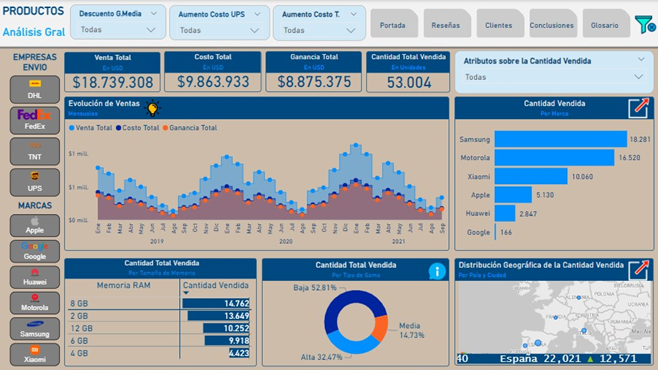

The dashboard page shown, as its layout file describes it:
{"tool":"powerbi","page":{"name":"Productos","canvas":[1280,720],"ordinal":2},"visuals":[{"type":"card","title":"Cantidad  Total Vendida","fields":{"Values":["DAX Medidas.Cantidad Total Vendida"]},"box":[710.8,99.2,163,80.1],"z":0},{"type":"areaChart","title":"Evolución de Ventas","fields":{"Category":["Calendario.Año","Calendario.Mes Nombre"],"Y":["DAX Medidas.Venta Total Desglosada por Gama","DAX Medidas.Costo Total Desglosado por Empresa Envio","DAX Medidas.Ganancia Total"]},"box":[124.4,187.4,748,298.9],"z":1000},{"type":"pageNavigator","box":[720,17,508.8,56.7],"z":2000},{"type":"card","title":"Ganancia Total","fields":{"Values":["DAX Medidas.Ganancia Total"]},"box":[515.8,98.9,187.4,78.7],"z":3000},{"type":"ChicletSlicer1448559807354","title":"MARCAS","fields":{"Category":["Marca.Marca Articulo"],"Image":["Marca.Logo"]},"box":[11.8,388.2,113.2,332.4],"z":4000},{"type":"ChicletSlicer1448559807354","title":"EMPRESAS ENVIO","fields":{"Image":["Empresas Envio.Imagen"],"Category":["Empresas Envio.Empresa"]},"box":[11.8,100,113.2,289.7],"z":5000},{"type":"map","title":"Distribución Geográfica de la Cantidad Vendida","fields":{"Category":["Pais.País","Ciudad.Ciudad"],"Size":["DAX Medidas.Cantidad Total Vendida"]},"box":[883,500.3,386.9,208.3],"z":6000},{"type":"image","box":[1228.8,22.7,51,51],"z":7000},{"type":"image","box":[273.5,187.1,46.8,43.9],"z":8000},{"type":"ScrollingTextVisual1448795304508","fields":{"Measure Absolute":["DAX Medidas.Cantidad Total Vendida"],"Measure Deviation":["DAX Medidas.Cantidad Total Vendida Anterior"],"Category":["Pais.País"]},"box":[883,680.3,386.9,29.8],"z":9000},{"type":"textbox","box":[0,2.8,180,90.7],"z":10000},{"type":"card","title":"Venta Total","fields":{"Values":["DAX Medidas.Venta Total Desglosada por Gama"]},"box":[124.7,100.8,187.1,78],"z":11000},{"type":"slicer","fields":{"Values":["Aumento Costos.Aumento Costos"]},"box":[530.1,9.9,181.4,69.4],"z":12000},{"type":"donutChart","title":"Cantidad Total Vendida","fields":{"Y":["DAX Medidas.Cantidad Total Vendida"],"Category":["CategoriaArticulo.Categoria Articulo"]},"box":[508.8,500.3,364.3,209.8],"z":13000},{"type":"slicer","fields":{"Values":["Descuento Gama Media.Descuento Gama Media"]},"box":[136.1,8.5,187.1,68],"z":14000},{"type":"clusteredBarChart","title":"Cantidad Vendida","fields":{"Category":["Marca.Marca Articulo","Pais.País"],"Y":["DAX Medidas.Cantidad Total Vendida"]},"box":[882.4,187.4,387.6,298.9],"z":15000},{"type":"card","title":"Costo Total","fields":{"Values":["DAX Medidas.Costo Total Desglosado por Empresa Envio"]},"box":[319.4,98.7,188.8,78.7],"z":16000},{"type":"slicer","title":"Incremento Costo UPS","fields":{"Values":["Incremento Costo UPS.Incremento Costo UPS"]},"box":[328.8,9.2,195.6,68],"z":17000},{"type":"image","box":[1210.4,182.8,59.5,53.9],"z":18000},{"type":"image","box":[826.3,500.3,46.8,51],"z":19000},{"type":"slicer","fields":{"Values":["Atributos sobre la Cantidad Vendida.Atributos sobre la Cantidad Vendida"]},"box":[882.4,97.3,387.6,84.4],"z":20000},{"type":"tableEx","title":"Cantidad Total Vendida","fields":{"Values":["RAM.RAM","DAX Medidas.Cantidad Total Vendida"]},"box":[124.7,500.3,374.2,209.8],"z":21000},{"type":"image","box":[1210.4,497.5,59.5,53.9],"z":22000}]}

Visuals, with their boxes in screenshot pixels (x1, y1, x2, y2), scaled from the page's 1280x720 canvas onto the 658x370 screenshot:
"Cantidad  Total Vendida" card: box(365, 51, 449, 92)
"Evolución de Ventas" areaChart: box(64, 96, 448, 250)
pageNavigator: box(370, 9, 632, 38)
"Ganancia Total" card: box(265, 51, 361, 91)
"MARCAS" ChicletSlicer1448559807354: box(6, 199, 64, 369)
"EMPRESAS ENVIO" ChicletSlicer1448559807354: box(6, 51, 64, 200)
"Distribución Geográfica de la Cantidad Vendida" map: box(454, 257, 653, 364)
image: box(632, 12, 657, 38)
image: box(141, 96, 165, 119)
ScrollingTextVisual1448795304508 - DAX Medidas.Cantidad Total Vendida x DAX Medidas.Cantidad Total Vendida Anterior: box(454, 350, 653, 365)
textbox: box(0, 1, 93, 48)
"Venta Total" card: box(64, 52, 160, 92)
slicer - Aumento Costos.Aumento Costos: box(273, 5, 366, 41)
"Cantidad Total Vendida" donutChart: box(262, 257, 449, 365)
slicer - Descuento Gama Media.Descuento Gama Media: box(70, 4, 166, 39)
"Cantidad Vendida" clusteredBarChart: box(454, 96, 653, 250)
"Costo Total" card: box(164, 51, 261, 91)
"Incremento Costo UPS" slicer: box(169, 5, 270, 40)
image: box(622, 94, 653, 122)
image: box(425, 257, 449, 283)
slicer - Atributos sobre la Cantidad Vendida.Atributos sobre la Cantidad Vendida: box(454, 50, 653, 93)
"Cantidad Total Vendida" tableEx: box(64, 257, 256, 365)
image: box(622, 256, 653, 283)
